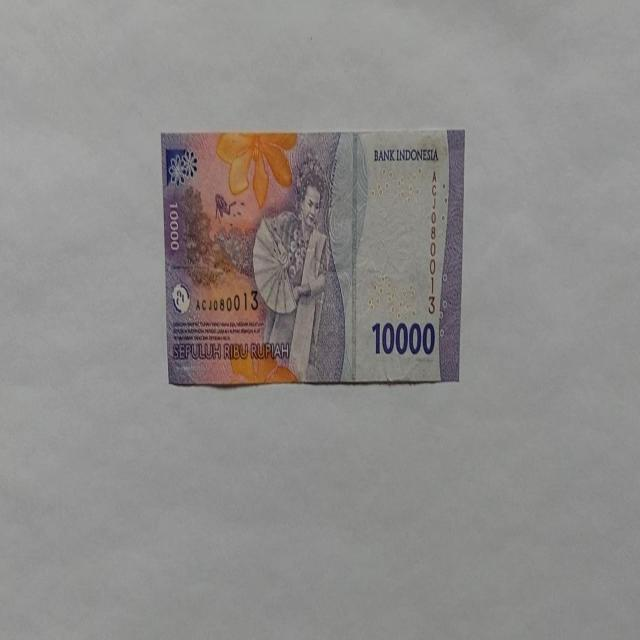Kertas: (160, 128, 464, 388), (371, 318, 435, 356)
